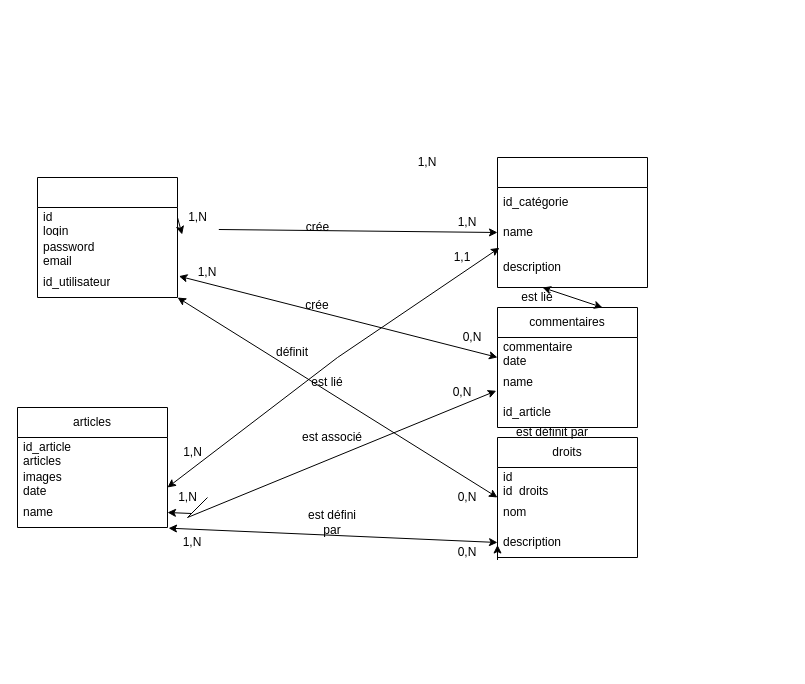
The diagram is 805 pixels wide and 684 high, and some of its shapes have lost their labels. The box of each missing label's shape, as (x1, y1, x2, y2) in pixels:
catégories: (496, 156, 648, 288)
utilisateurs: (36, 176, 178, 298)
